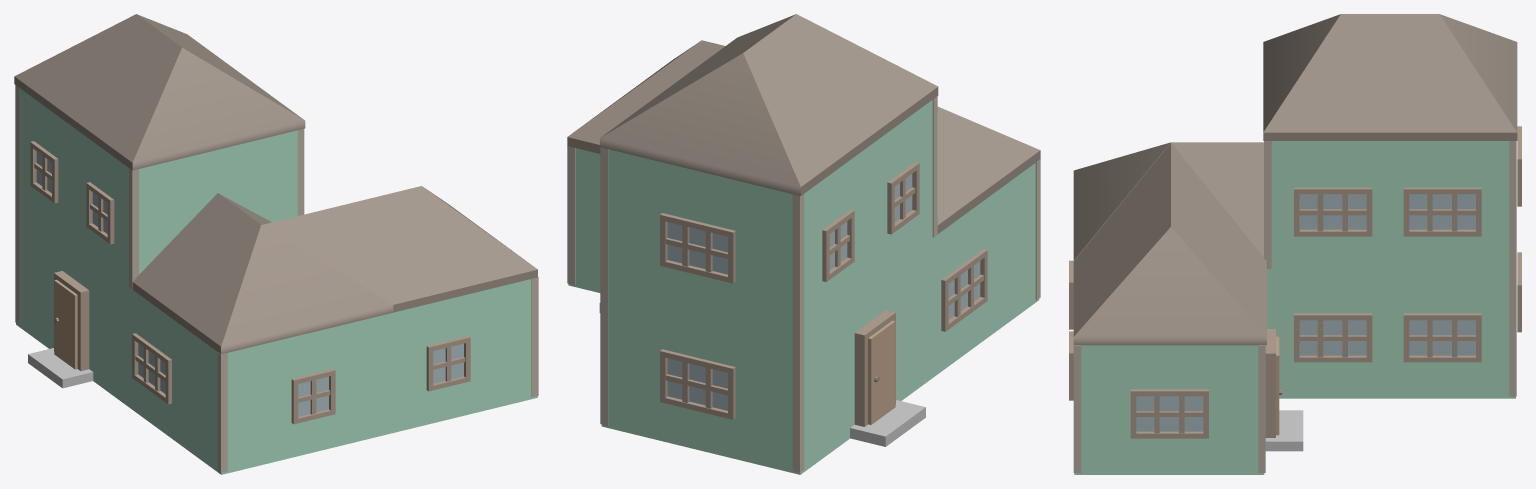
The model's file is house06.fbx.
The picture shows the model from 3 angles, left to right: view 1: azimuth 30°, elevation 25°; view 2: azimuth 150°, elevation 25°; view 3: azimuth 270°, elevation 25°; orthographic projection. The views are drawn at different scales.
Visible parts, largest first — view 1: house06, roof012, house06_upper, roof013, roof011, door5 (×4), doorCentre, pPlane1 (×2), doorFrame, step, pillar06, pillar011 (+5 smaller); view 2: house06, house06_upper, roof012, roof013, door9 (×3), pPlane2 (×3), roof011, pillar010, door17 (×3), pillar09, doorCentre, door5 (×2) (+5 smaller); view 3: house06, roof012, roof011, house06_upper, roof013, pPlane2 (×5), door9 (×5), door17 (×5), pillar09, step, doorFrame, pillar07 (+2 smaller).
Part boxes in pixels (x1,y1,x2,y2): house06: (16,206,537,474); roof012: (14,14,305,170); house06_upper: (19,88,297,286); roof013: (132,193,393,354); roof011: (262,186,537,333); door5 (×4): (30,141,470,424); doorCentre: (54,279,77,369); pPlane1 (×2): (298,343,463,416); doorFrame: (54,271,89,370); step: (28,348,93,388); pillar06: (217,352,227,473); pillar011: (129,168,138,289); house06: (568,148,1039,474); house06_upper: (608,100,932,332); roof012: (600,14,938,195); roof013: (937,106,1040,233); door9 (×3): (660,213,987,419); pPlane2 (×3): (667,222,980,410); roof011: (567,40,725,153); pillar010: (792,194,804,472); door17 (×3): (665,225,983,408); pillar09: (600,147,608,425); doorCentre: (868,320,895,424); door5 (×2): (822,162,919,281); house06: (1074,269,1515,474); roof012: (1263,14,1517,140); roof011: (1073,143,1266,345); house06_upper: (1271,141,1509,268); roof013: (1073,142,1267,268); pPlane2 (×5): (1136,194,1475,431); door9 (×5): (1130,187,1481,438); door17 (×5): (1136,194,1475,433); pillar09: (1509,141,1516,396); step: (1265,410,1303,451); doorFrame: (1265,329,1275,437); pillar07: (1073,345,1081,472).
Size of the model in its own units: 6.44 by 5.54 by 6.69.
